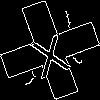X: (25, 25, 73, 79)
